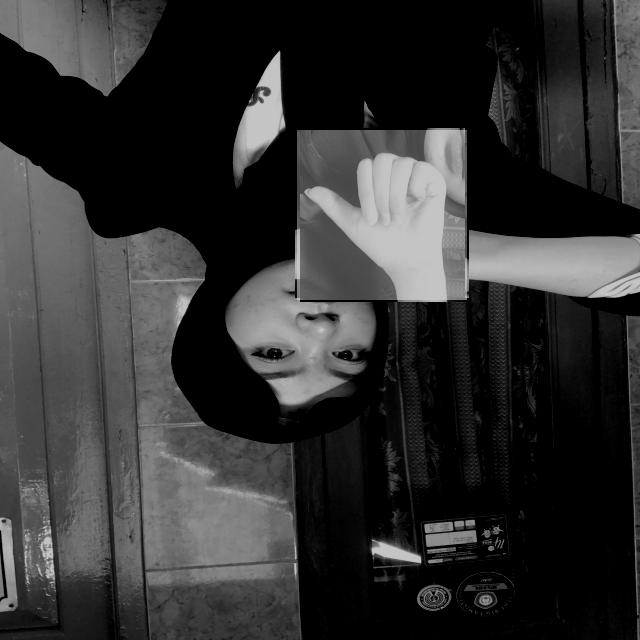sedih: (297, 130, 467, 300)
